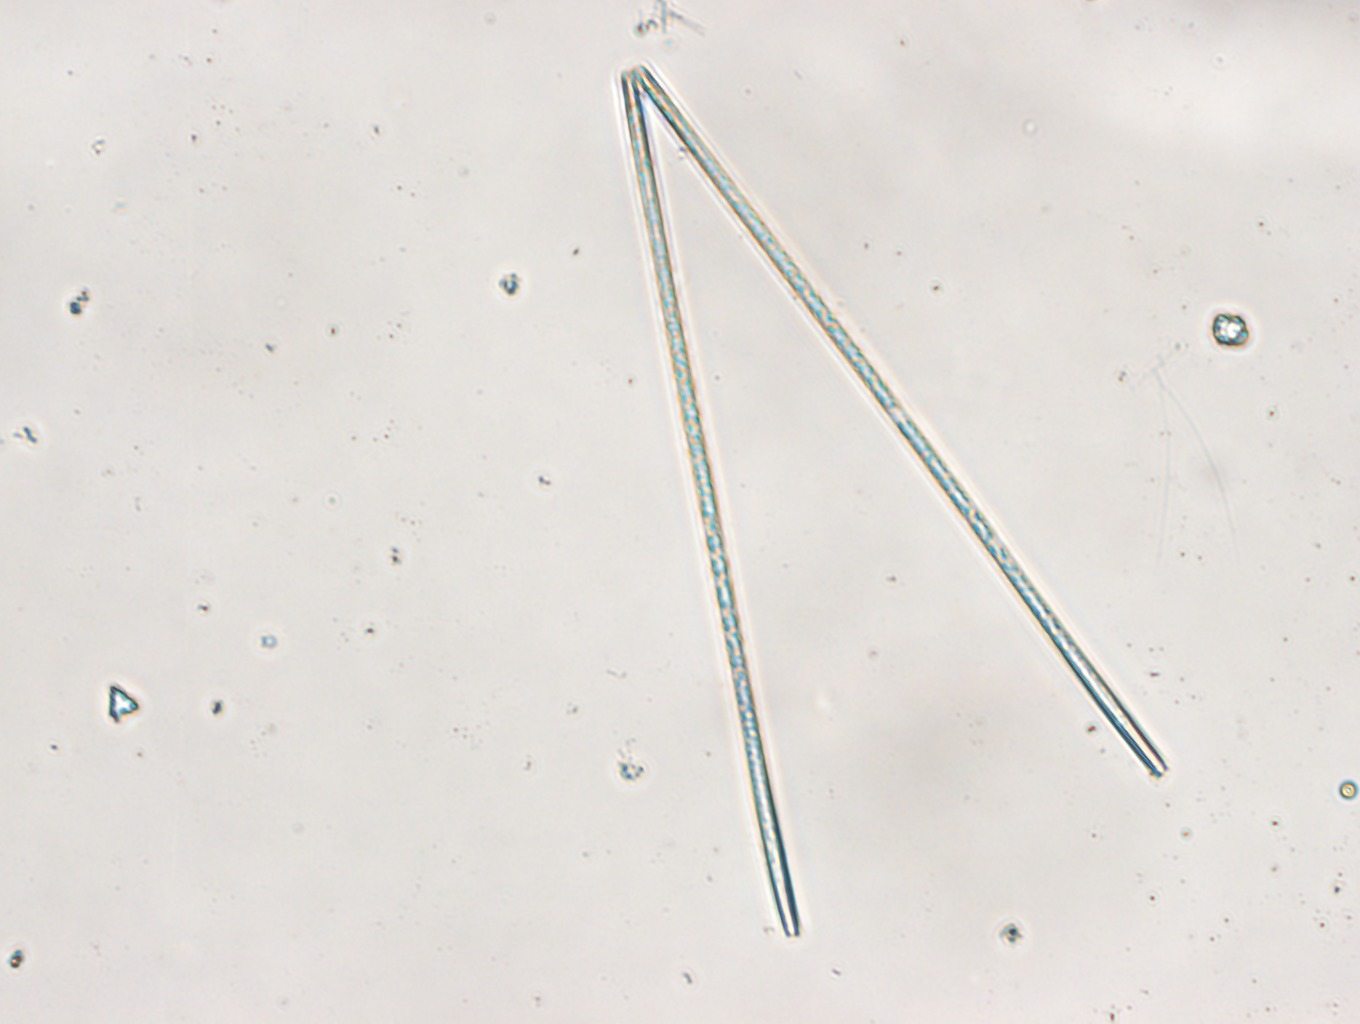thalassionema frauenfeldii: (619, 63, 1168, 934)
